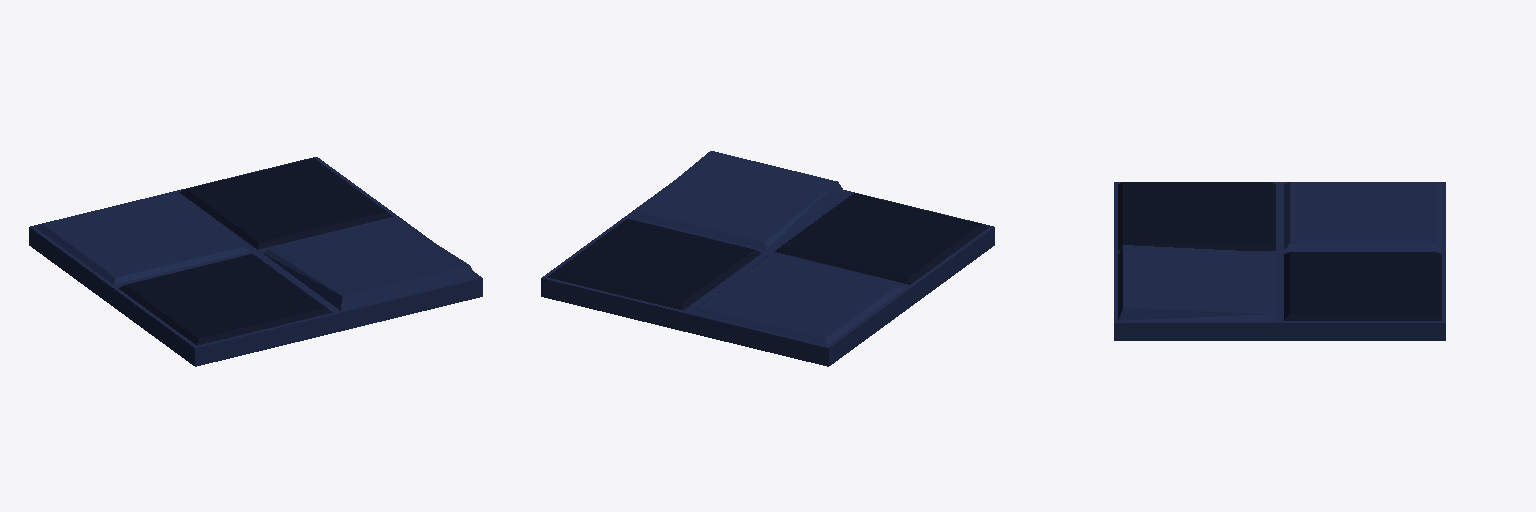
Rendered from tile1.obj.
3 views of the same model, side by side, from view 1: azimuth 30°, elevation 25°; view 2: azimuth 150°, elevation 25°; view 3: azimuth 270°, elevation 25° (orthographic).
Visible parts, largest first — view 1: floor.002_grey_0; view 2: floor.002_grey_0; view 3: floor.002_grey_0.
Boxes of the visible parts, x1,y1,x2,y2 form: floor.002_grey_0: [29, 157, 482, 366]; floor.002_grey_0: [541, 151, 994, 366]; floor.002_grey_0: [1114, 182, 1445, 340].
Size of the model in its own units: 1 by 0.1 by 1.